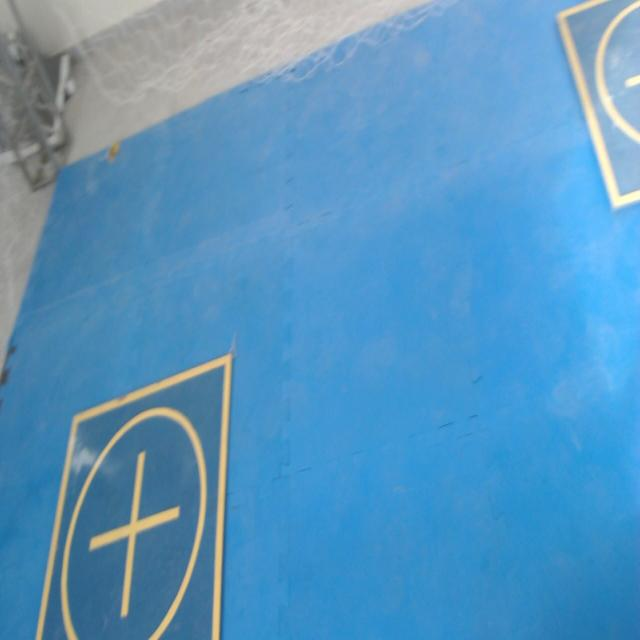base_pouso: (33, 354, 234, 639), (556, 0, 640, 215)
